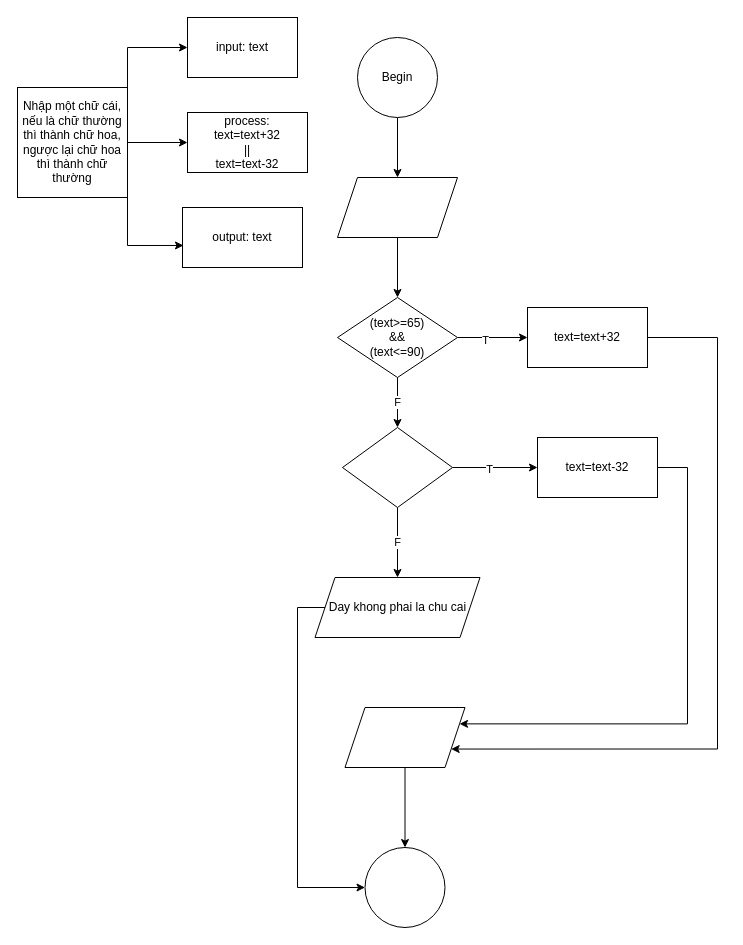
Some shapes in this 743 by 945 pixel diagram are drawn without their labels. Each missing label, with the centre of its shape:
"(text>=97) && (text<=122)" goes at point (397, 467).
"end" goes at point (404, 887).
"print text" goes at point (404, 737).
"read text" goes at point (397, 207).
